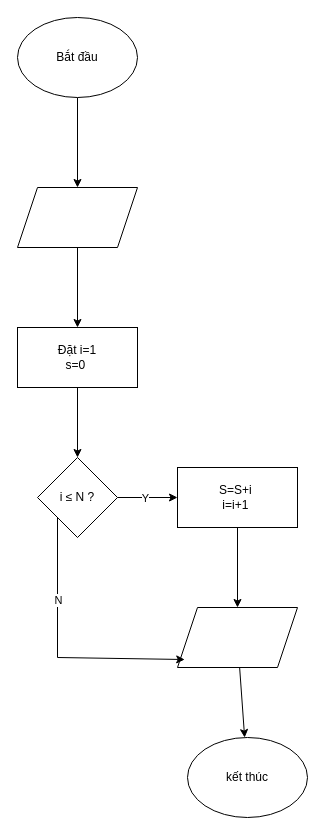
Some shapes in this 325 by 835 pixel diagram are drawn without their labels. Here are the shapes that lost their labels. From the top down, the box of each, then its label:
(16, 186, 138, 248): Nhập N
(176, 606, 298, 668): In ra S
